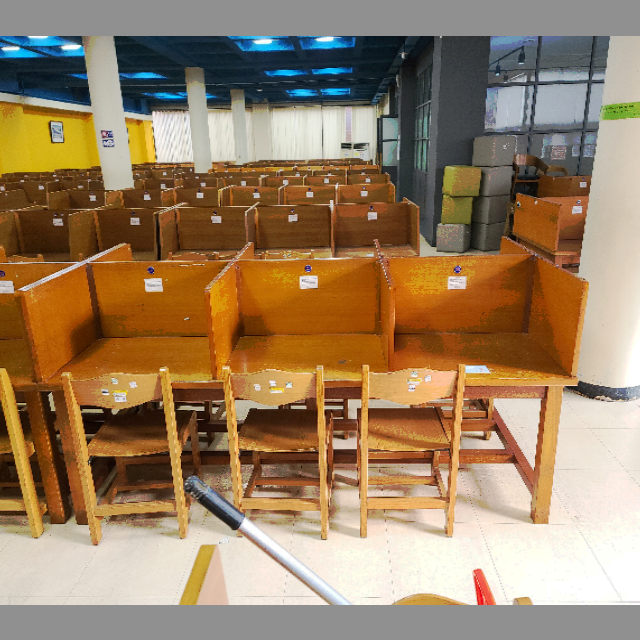empty: (30, 251, 219, 450), (405, 258, 574, 463), (229, 259, 399, 462)
